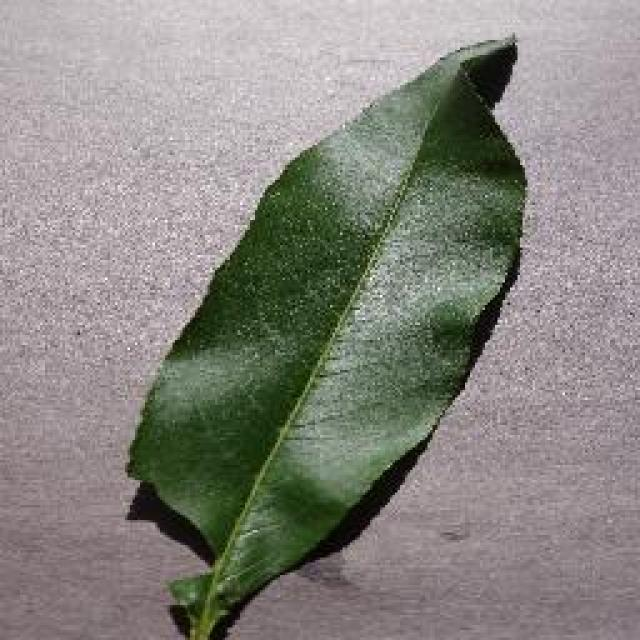Pea_healthy: (140, 91, 530, 524)
